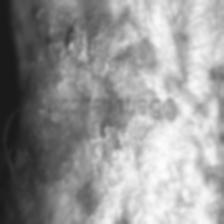Potentially Malignant Skin Tumors: (25, 123, 152, 224), (34, 2, 140, 96)
